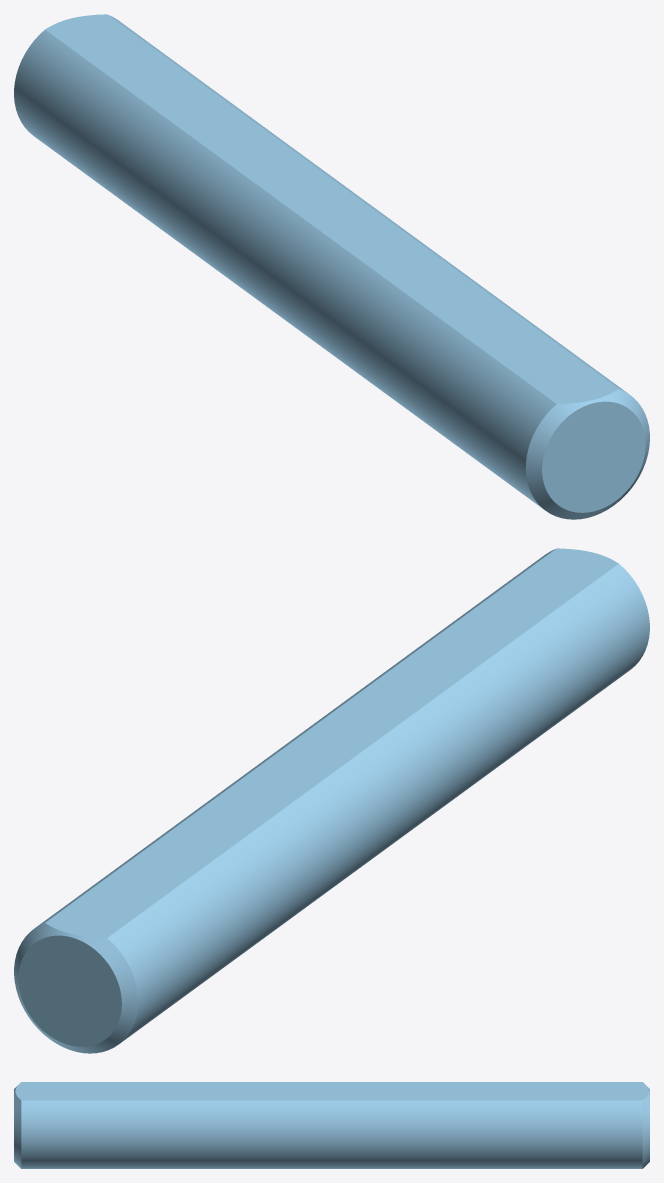
3 renders of one model, top to bottom at view 1: azimuth 30°, elevation 25°; view 2: azimuth 150°, elevation 25°; view 3: azimuth 270°, elevation 25°, orthographic. The views are drawn at different scales.
Visible parts, largest first — view 1: mesh4694, mesh4695, mesh4692, mesh4693; view 2: mesh4694, mesh4695, mesh4697, mesh4696; view 3: mesh4694, mesh4695, mesh4693, mesh4696.
Part boxes in pixels (x1,y1,x2,y2): mesh4694: (14, 15, 628, 509); mesh4695: (45, 14, 618, 403); mesh4692: (542, 401, 645, 512); mesh4693: (525, 389, 649, 519); mesh4694: (35, 549, 649, 1043); mesh4695: (45, 548, 618, 937); mesh4697: (18, 935, 121, 1046); mesh4696: (14, 923, 138, 1053); mesh4694: (21, 1100, 642, 1168); mesh4695: (15, 1082, 648, 1100); mesh4693: (14, 1086, 21, 1168); mesh4696: (642, 1086, 649, 1168).
Bounding box in the file's own units: 0.012 × 0.0112 × 0.0876.
